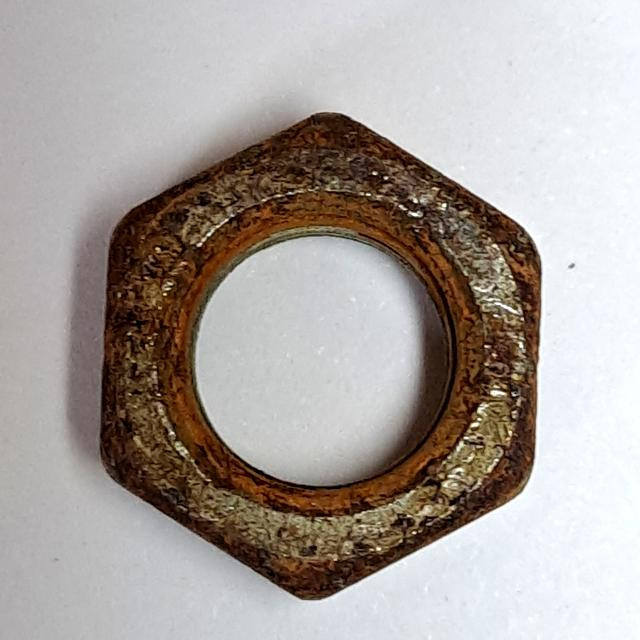Rust: (79, 92, 560, 614)
